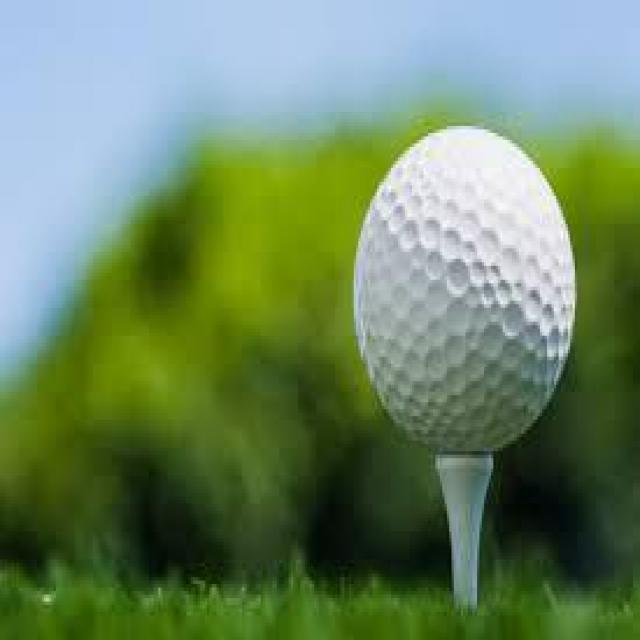golfball: (339, 94, 586, 466)
